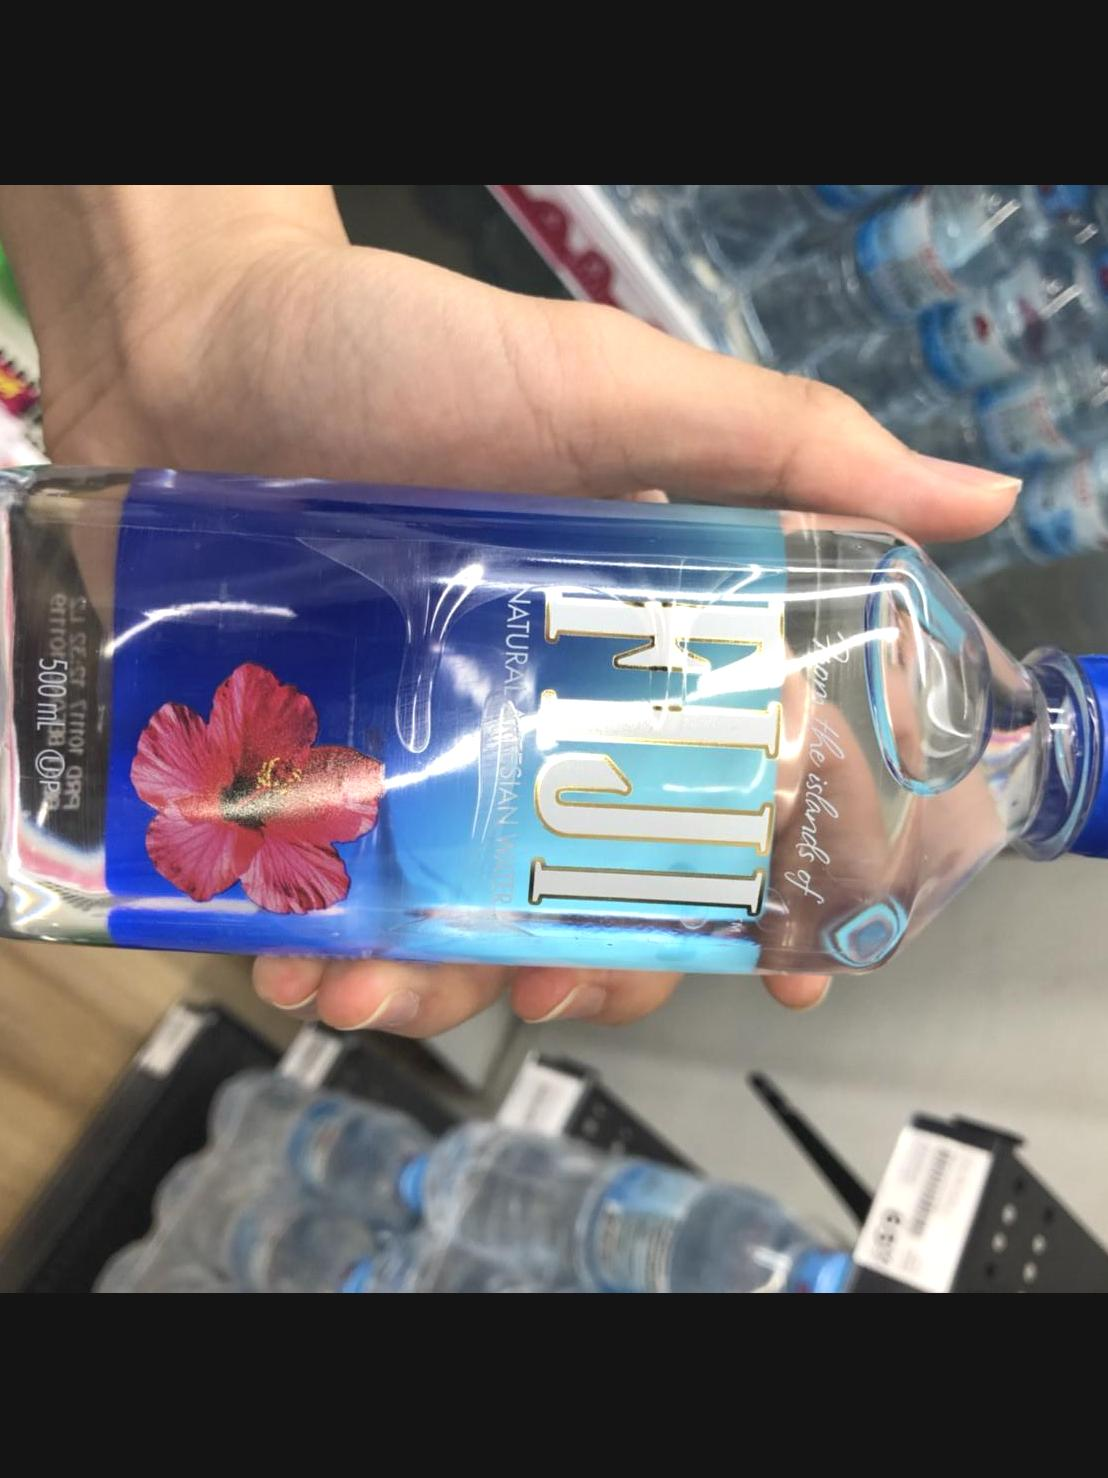bottle: (0, 453, 1108, 996)
